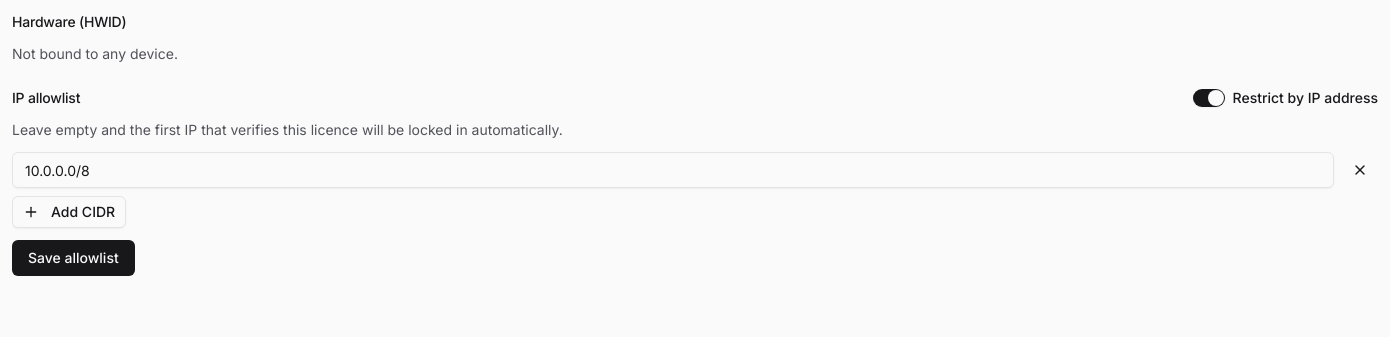
Test: LicenceBindings › lets you add a CIDR row
The image size is (1390, 337).
Expected: the number of fields with placeholder "CIDR e.g. 203.0.113.0/24" is 1, x1=12 y1=152 x2=1334 y2=188
Step 1. Click the button "Add CIDR" → (69, 212), box x1=12 y1=196 x2=126 y2=228
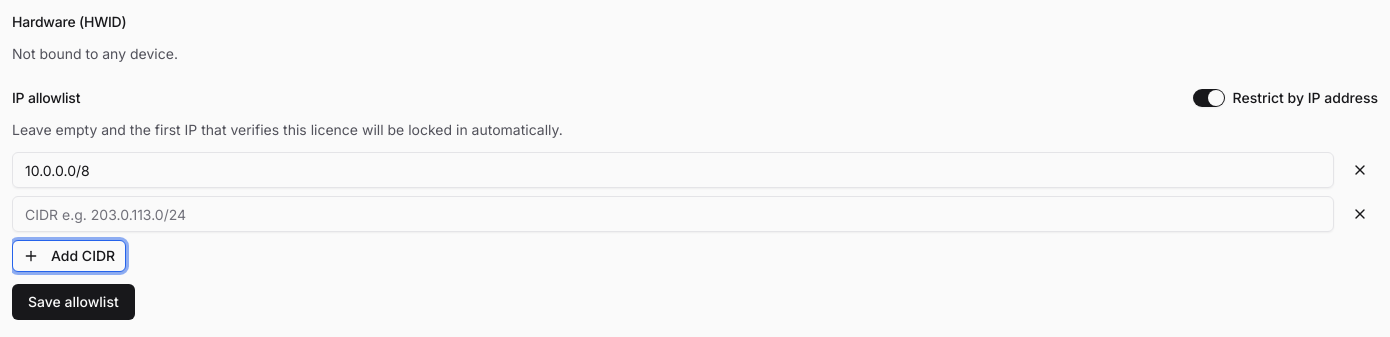
Expected: the number of fields with placeholder "CIDR e.g. 203.0.113.0/24" is 2, x1=12 y1=152 x2=1334 y2=188; x1=12 y1=196 x2=1334 y2=232
